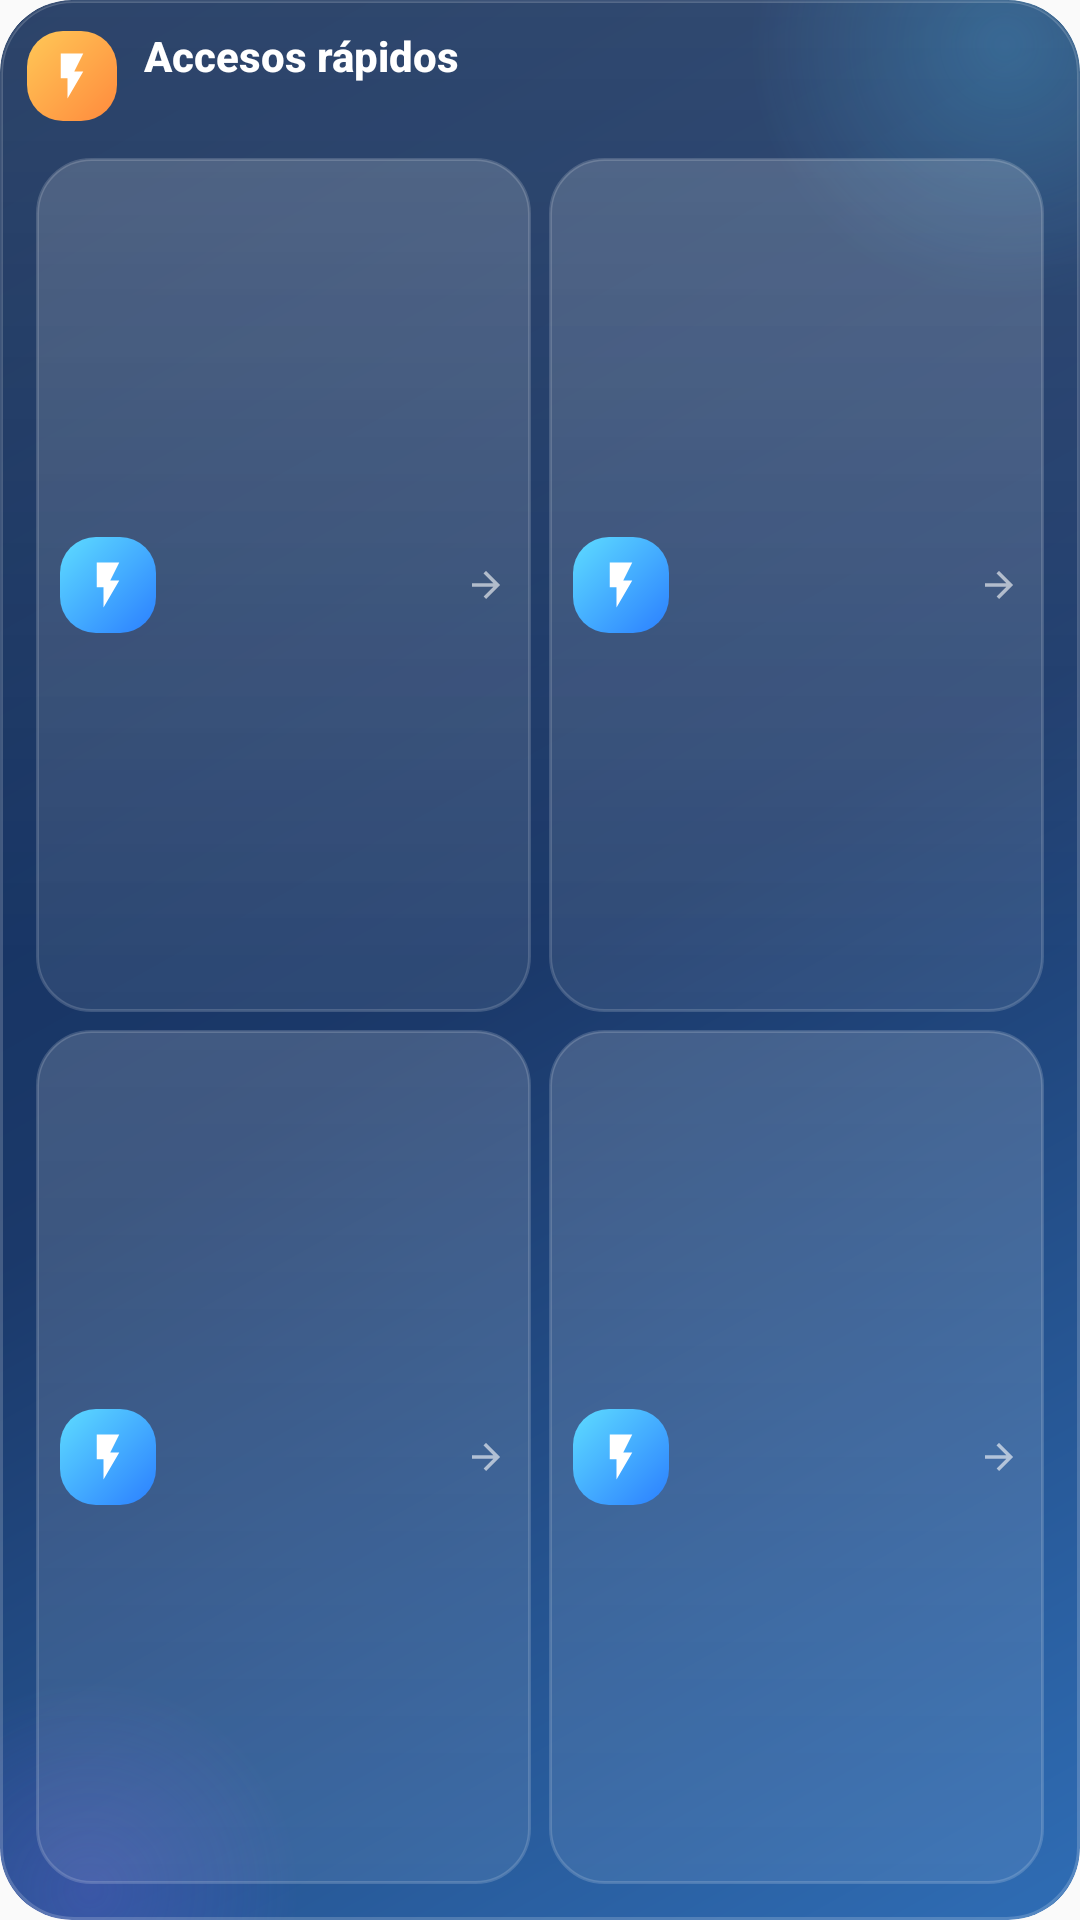

Named icons in this screenshot (1080*1920) and their centers, (x,y):
widget arrow: (486,585), (999,585), (486,1457), (999,1457)
widget bolt: (108,585), (621,585), (108,1457), (621,1457)
